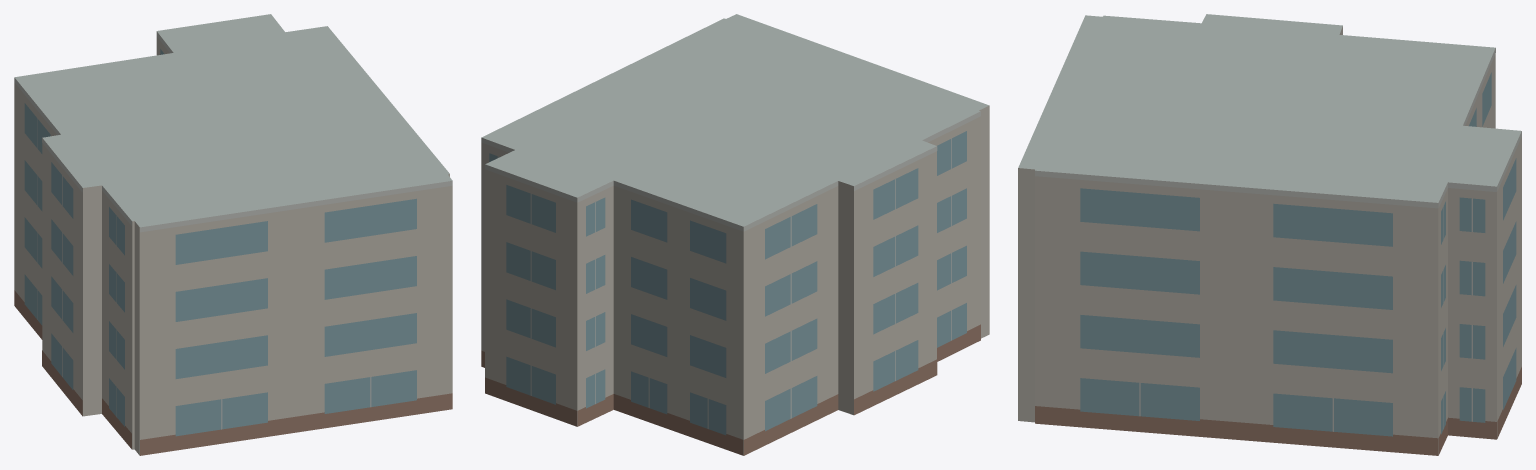
Rendered from survey-upis-32671260.glb.
3 renders of one model, left to right at view 1: azimuth 30°, elevation 25°; view 2: azimuth 150°, elevation 25°; view 3: azimuth 270°, elevation 25°, orthographic. The views are drawn at different scales.
Visible parts, largest first — view 1: survey-upis-32671260.tmp; view 2: survey-upis-32671260.tmp; view 3: survey-upis-32671260.tmp.
Part boxes in pixels (x1=…): survey-upis-32671260.tmp: x1=14, y1=14, x2=452, y2=455; survey-upis-32671260.tmp: x1=481, y1=14, x2=989, y2=455; survey-upis-32671260.tmp: x1=1018, y1=14, x2=1521, y2=455.
Bounding box in the file's own units: 17.95 × 11.2 × 20.22.
